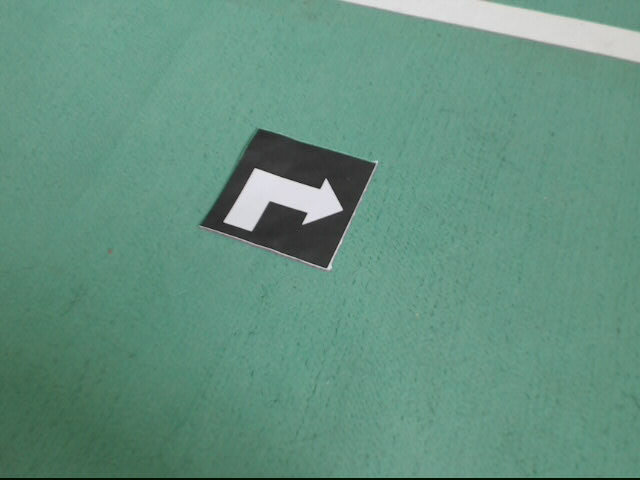right: (201, 130, 378, 273)
